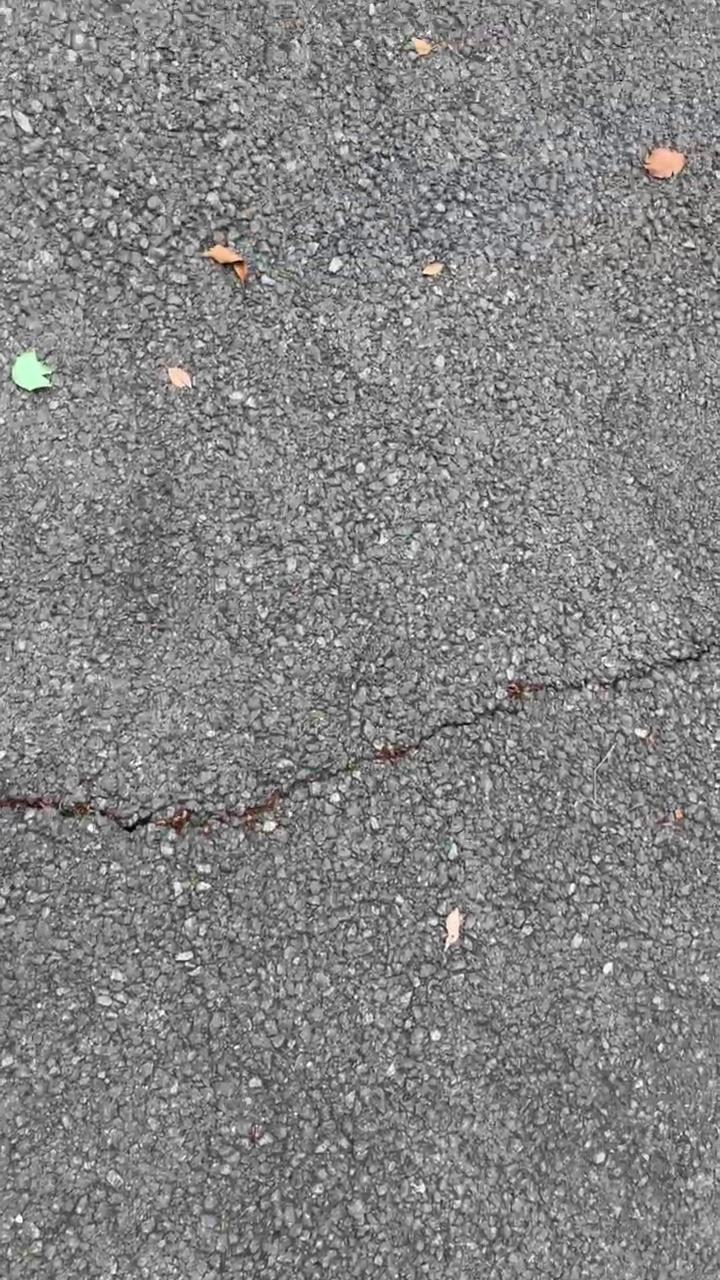Crack: (1, 640, 720, 834)
